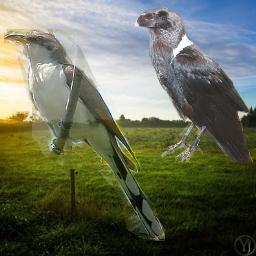Crow: (134, 6, 253, 162)
Cuckoo: (4, 29, 165, 241)
